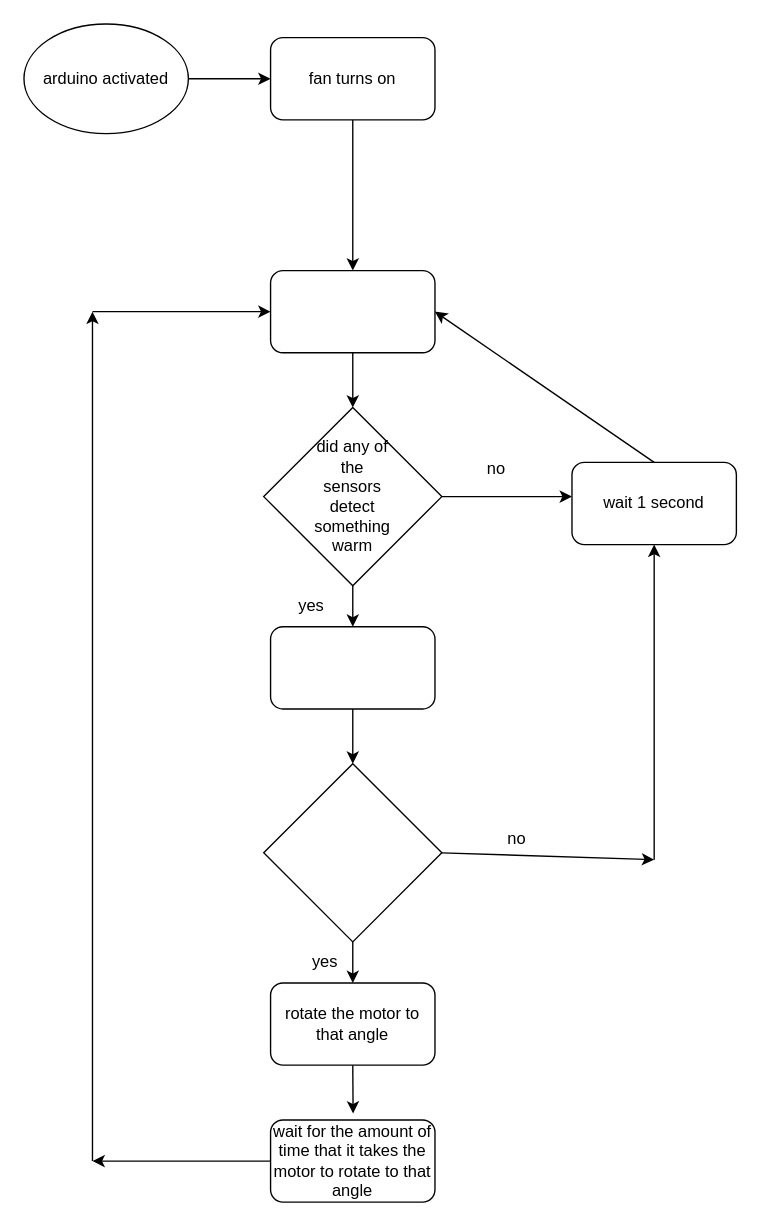
This 760x1226 diagram has some shape labels left out. The shapes that lost their labels are listed below. From the top down, each one's box as (x1, y1, x2, y2) in pixels, then its label:
(269, 269, 435, 353): all sensors will scan for movement
(269, 625, 435, 709): average the angles of the sensors that detect IR
(262, 762, 442, 942): is it different from the angle last time?
